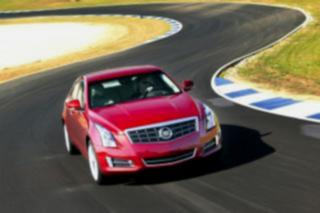cadillac: (157, 125, 175, 142)
